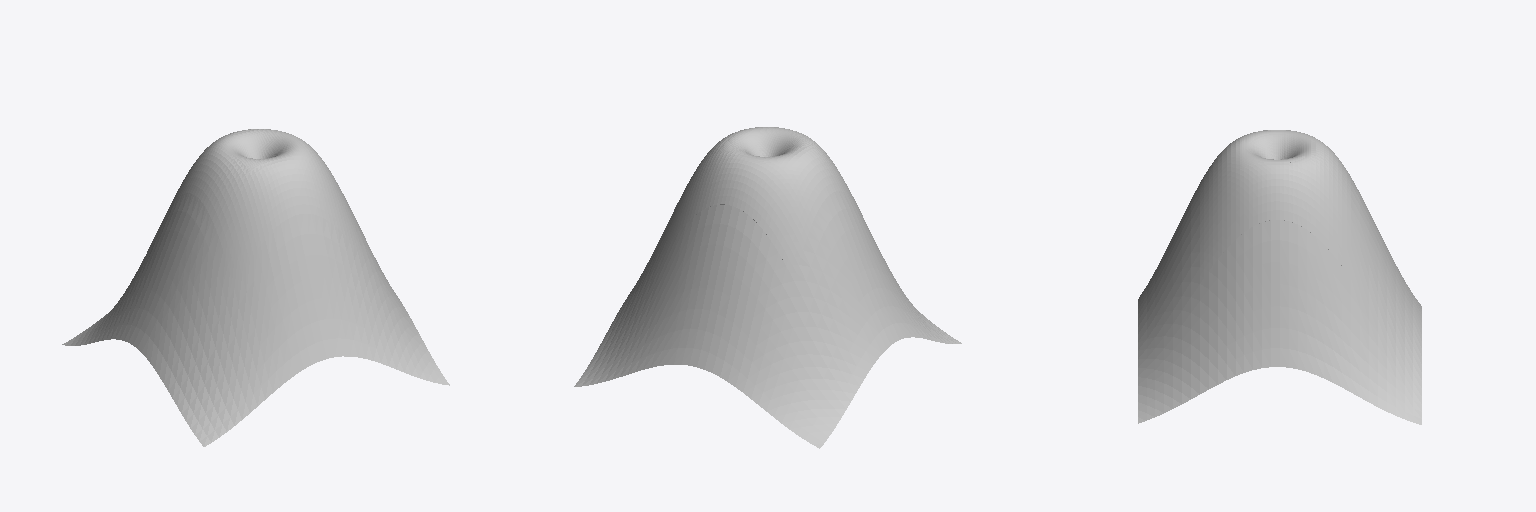
The model's file is clipmesh_distorted.obj.
3 renders of one model, left to right at view 1: azimuth 30°, elevation 25°; view 2: azimuth 150°, elevation 25°; view 3: azimuth 270°, elevation 25°, orthographic.
Parts seen in each view (by area): view 1: Plane; view 2: Plane; view 3: Plane.
Boxes of the visible parts, x1,y1,x2,y2 form: Plane: [62, 129, 449, 446]; Plane: [574, 127, 961, 448]; Plane: [1138, 130, 1421, 424].
Bounding box in the file's own units: 2 × 1.72 × 2.